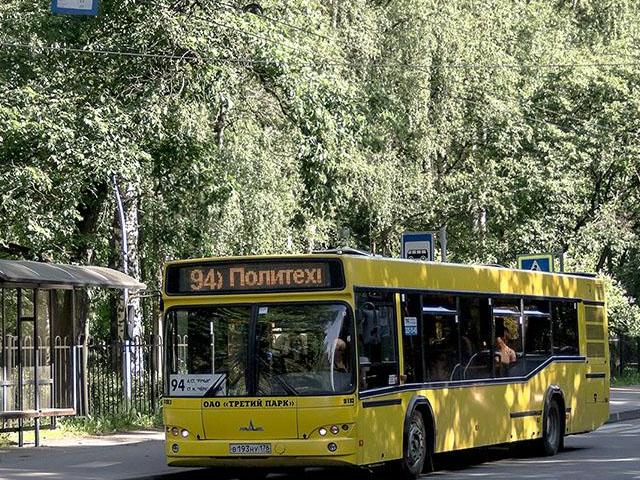bus: (124, 242, 617, 480)
